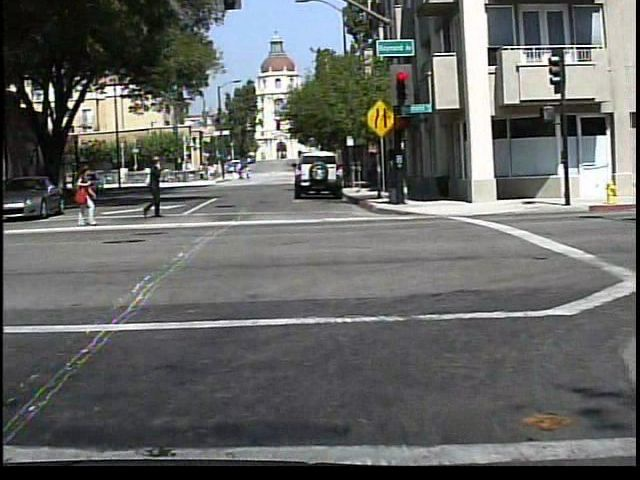person: (132, 157, 170, 222), (65, 162, 99, 229), (242, 166, 253, 186), (234, 167, 243, 185)
